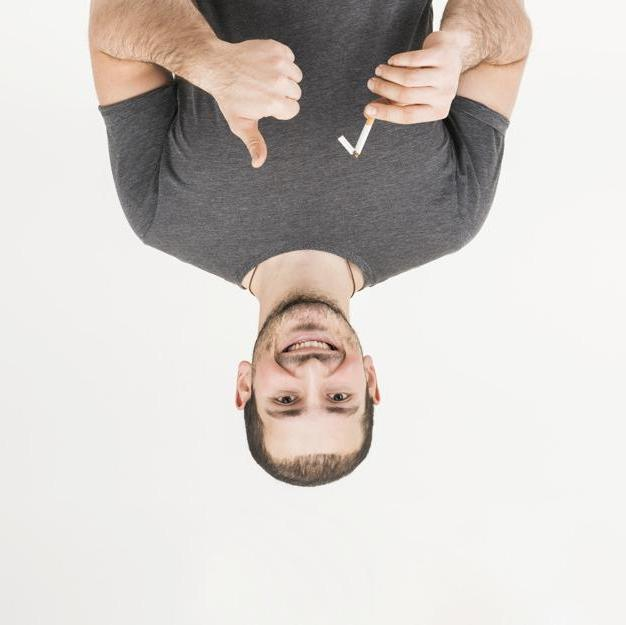thumbsdown: (239, 40, 303, 169)
